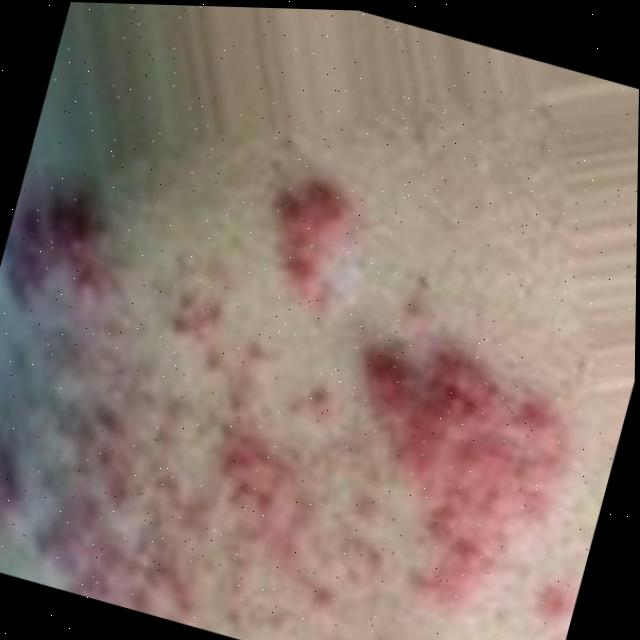Shingles: (0, 106, 638, 640)
